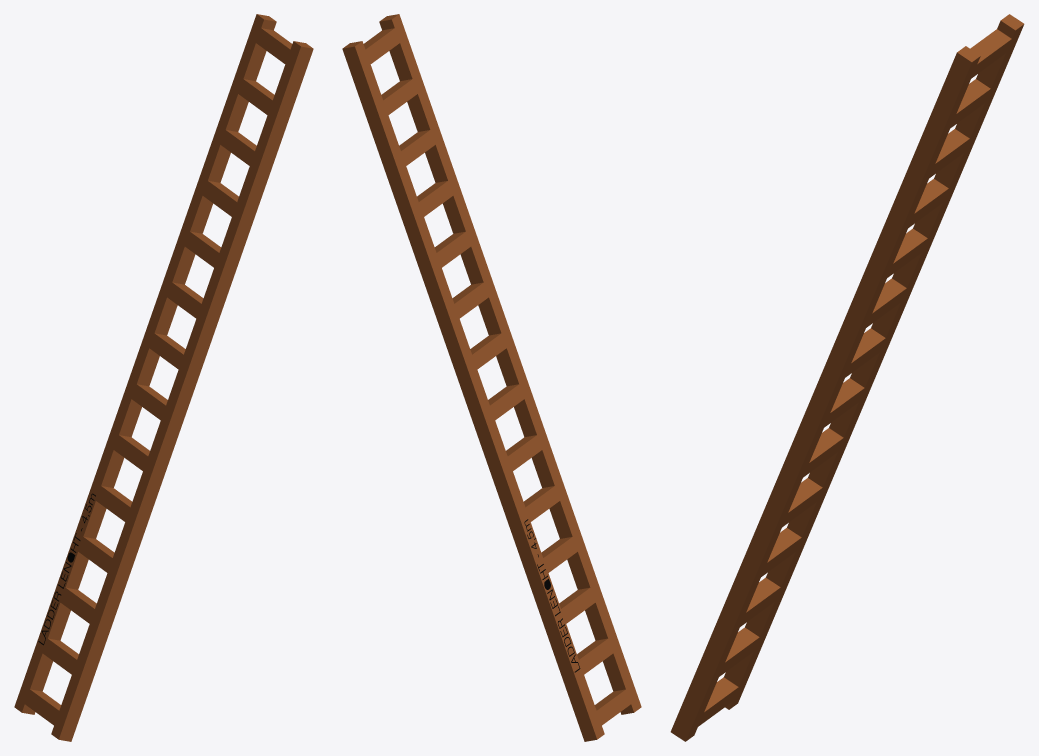
Rendered from rebrik1.obj.
The picture shows the model from 3 angles, left to right: view 1: azimuth 30°, elevation 25°; view 2: azimuth 150°, elevation 25°; view 3: azimuth 330°, elevation 25°; orthographic projection. The views are drawn at different scales.
Parts seen in each view (by area): view 1: Mesh1 Group2 Group1 Model, Mesh3 Group4 Group1 Model, Mesh2 Group3 Group1 Model, Mesh4 Group5 Group1 Model, Mesh9 Group10 Group1 Model, Mesh11 Group12 Group1 Model, Mesh12 Group13 Group1 Model, Mesh13 Group14 Group1 Model, Mesh15 Group16 Group1 Model, Mesh5 Group6 Group1 Model, Mesh6 Group7 Group1 Model, Mesh7 Group8 Group1 Model (+4 smaller); view 2: Mesh3 Group4 Group1 Model, Mesh1 Group2 Group1 Model, Mesh2 Group3 Group1 Model, Mesh4 Group5 Group1 Model, Mesh9 Group10 Group1 Model, Mesh11 Group12 Group1 Model, Mesh12 Group13 Group1 Model, Mesh13 Group14 Group1 Model, Mesh15 Group16 Group1 Model, Mesh5 Group6 Group1 Model, Mesh6 Group7 Group1 Model, Mesh7 Group8 Group1 Model (+4 smaller); view 3: Mesh1 Group2 Group1 Model, Mesh3 Group4 Group1 Model, Mesh16 Group17 Group1 Model, Mesh9 Group10 Group1 Model, Mesh7 Group8 Group1 Model, Mesh2 Group3 Group1 Model, Mesh4 Group5 Group1 Model, Mesh5 Group6 Group1 Model, Mesh11 Group12 Group1 Model, Mesh15 Group16 Group1 Model, Mesh6 Group7 Group1 Model, Mesh8 Group9 Group1 Model (+4 smaller).
Part boxes in pixels (x1,y1,x2,y2): Mesh1 Group2 Group1 Model: (51, 41, 313, 741); Mesh3 Group4 Group1 Model: (14, 14, 276, 714); Mesh2 Group3 Group1 Model: (25, 689, 61, 725); Mesh4 Group5 Group1 Model: (42, 638, 78, 674); Mesh9 Group10 Group1 Model: (131, 384, 167, 420); Mesh11 Group12 Group1 Model: (185, 231, 221, 267); Mesh12 Group13 Group1 Model: (167, 282, 203, 318); Mesh13 Group14 Group1 Model: (202, 181, 238, 216); Mesh15 Group16 Group1 Model: (220, 130, 256, 165); Mesh5 Group6 Group1 Model: (60, 587, 96, 623); Mesh6 Group7 Group1 Model: (96, 486, 132, 521); Mesh7 Group8 Group1 Model: (78, 537, 114, 572); Mesh3 Group4 Group1 Model: (342, 41, 604, 741); Mesh1 Group2 Group1 Model: (379, 14, 641, 714); Mesh2 Group3 Group1 Model: (594, 689, 630, 725); Mesh4 Group5 Group1 Model: (577, 638, 613, 674); Mesh9 Group10 Group1 Model: (488, 384, 524, 420); Mesh11 Group12 Group1 Model: (434, 231, 470, 267); Mesh12 Group13 Group1 Model: (452, 282, 488, 318); Mesh13 Group14 Group1 Model: (417, 181, 453, 216); Mesh15 Group16 Group1 Model: (399, 130, 435, 165); Mesh5 Group6 Group1 Model: (559, 587, 595, 623); Mesh6 Group7 Group1 Model: (523, 486, 559, 521); Mesh7 Group8 Group1 Model: (541, 537, 577, 572); Mesh1 Group2 Group1 Model: (670, 46, 980, 741); Mesh3 Group4 Group1 Model: (724, 14, 1024, 709); Mesh16 Group17 Group1 Model: (970, 29, 1011, 78); Mesh9 Group10 Group1 Model: (824, 378, 864, 427); Mesh7 Group8 Group1 Model: (761, 528, 801, 576); Mesh2 Group3 Group1 Model: (698, 677, 738, 726); Mesh4 Group5 Group1 Model: (719, 627, 759, 676); Mesh5 Group6 Group1 Model: (740, 577, 780, 626); Mesh11 Group12 Group1 Model: (887, 228, 927, 277); Mesh15 Group16 Group1 Model: (929, 129, 969, 177); Mesh6 Group7 Group1 Model: (782, 478, 822, 527); Mesh8 Group9 Group1 Model: (803, 428, 843, 477).
Size of the model in its own units: 1758 by 4211 by 531.
